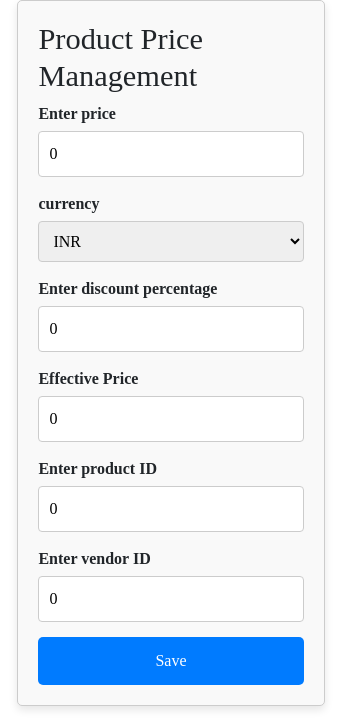
Test: PriceForm › calculates effective price correctly
The image size is (343, 728).
Replace the text in the field with placeholder "Enter price" with "1000": (171, 154) [38,131,304,177]
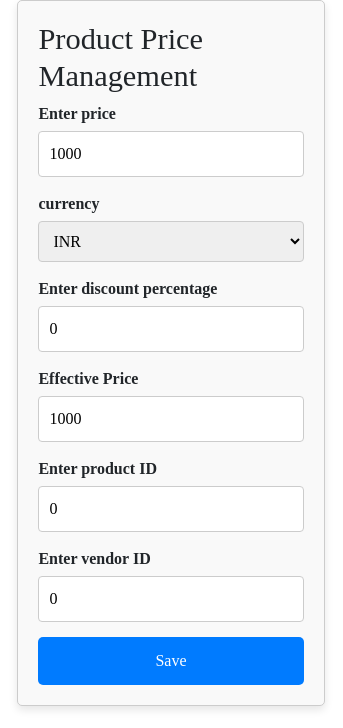
Replace the text in the field with placeholder "Enter discount percentage" with "10": (171, 329) [38,306,304,352]
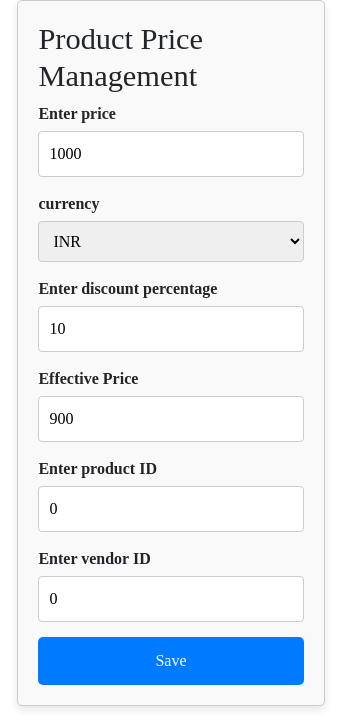
Result: the number field with placeholder "Effective Price" holds "900" at [38,396,304,442]
